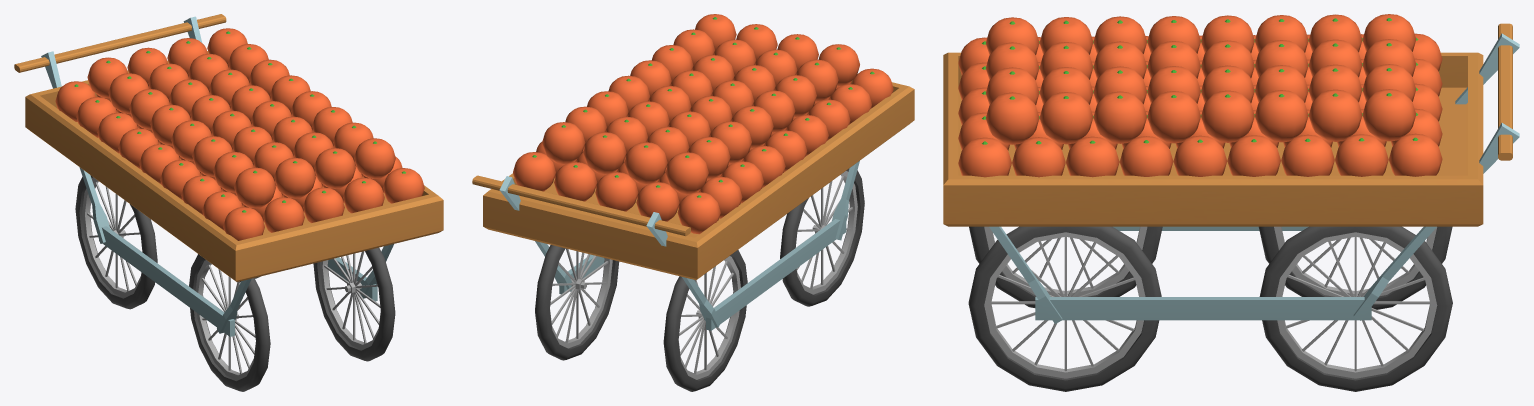
The model's file is ORANGE CART.fbx.
3 renders of one model, left to right at view 1: azimuth 30°, elevation 25°; view 2: azimuth 150°, elevation 25°; view 3: azimuth 270°, elevation 25°, orthographic. The views are drawn at different scales.
Parts seen in each view (by area): view 1: ORANGECART; view 2: ORANGECART; view 3: ORANGECART.
Boxes of the visible parts, box(x1,y1,x2,y2) form: ORANGECART: box(14, 14, 443, 391); ORANGECART: box(472, 14, 914, 391); ORANGECART: box(943, 14, 1519, 391).
Bounding box in the file's own units: 114 × 122 × 214.
